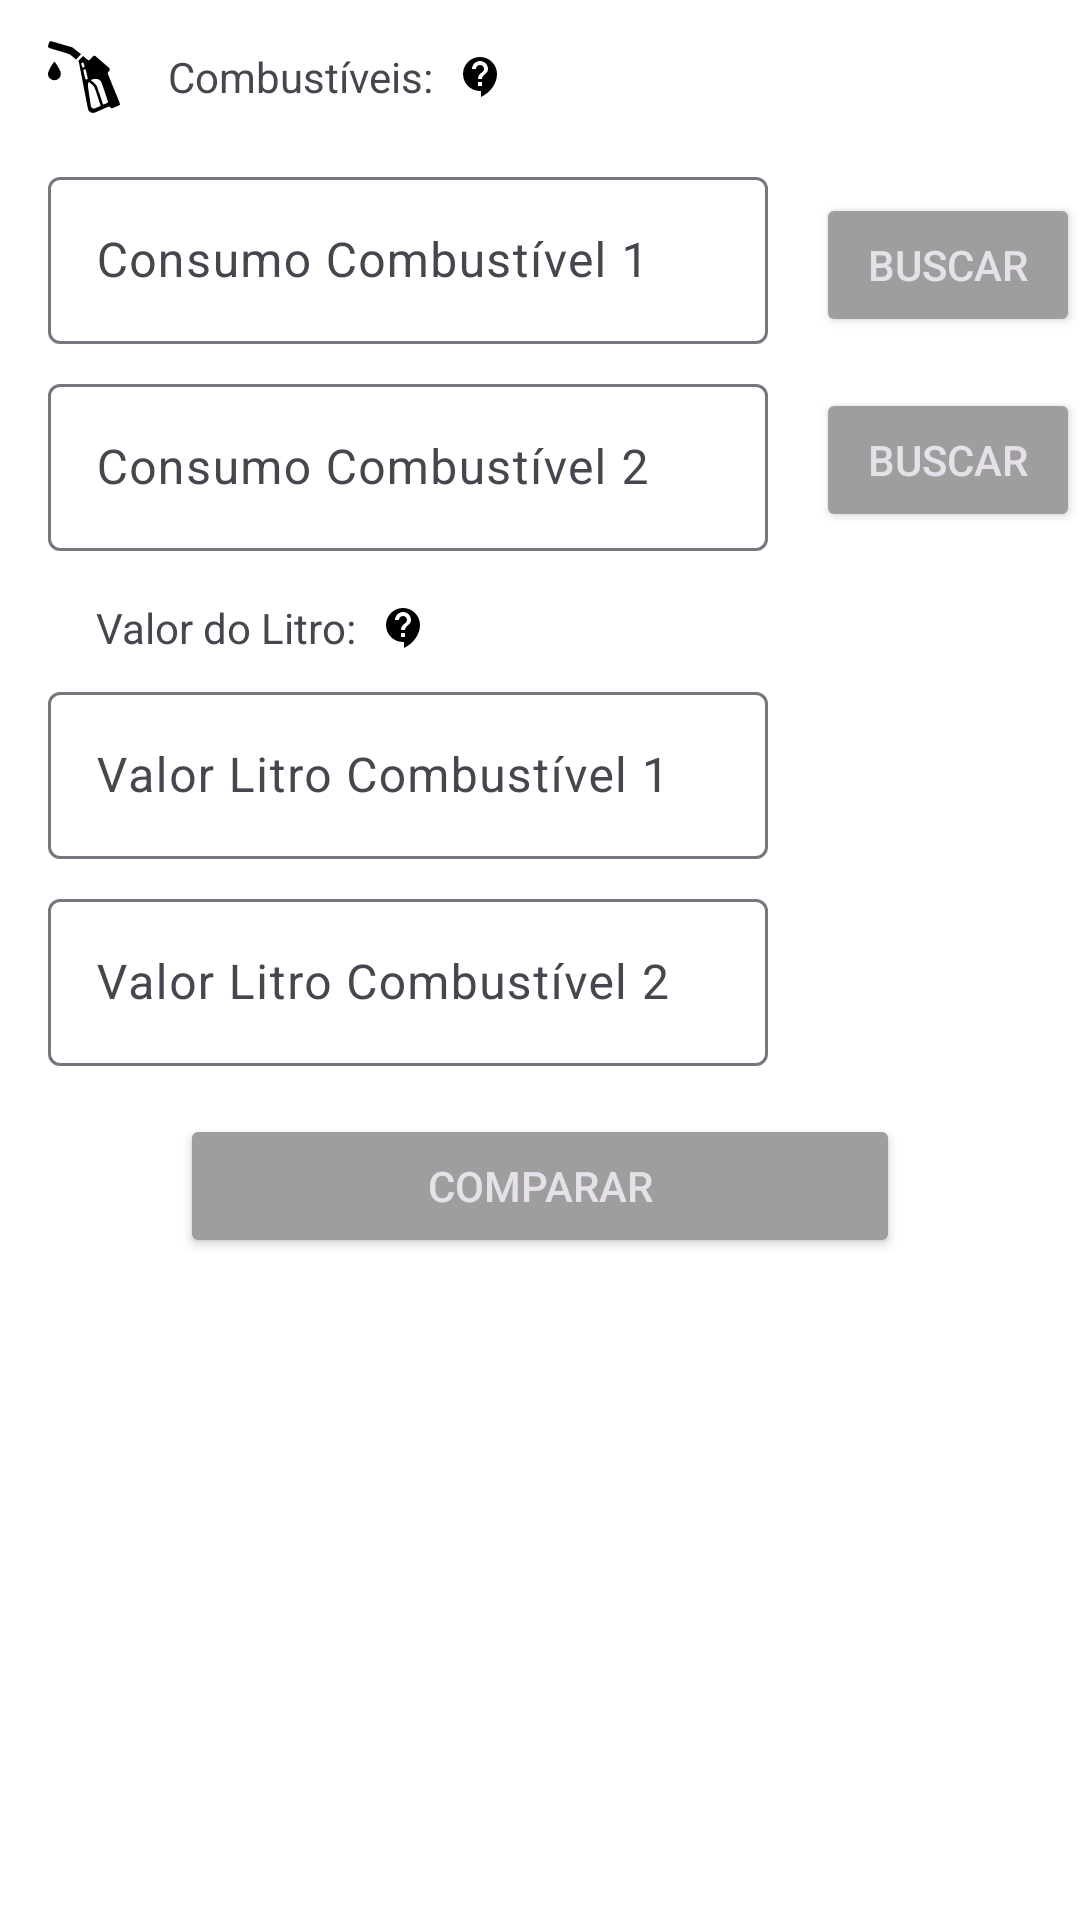

Where icons sit on this 1080px×1920px app screen, as (x1, y1, x2, y2):
fuel: (48, 41, 120, 113)
